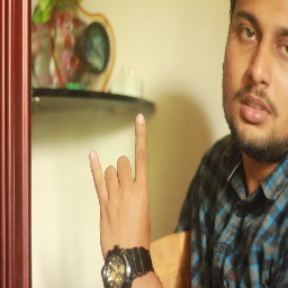V: (84, 112, 162, 252)
